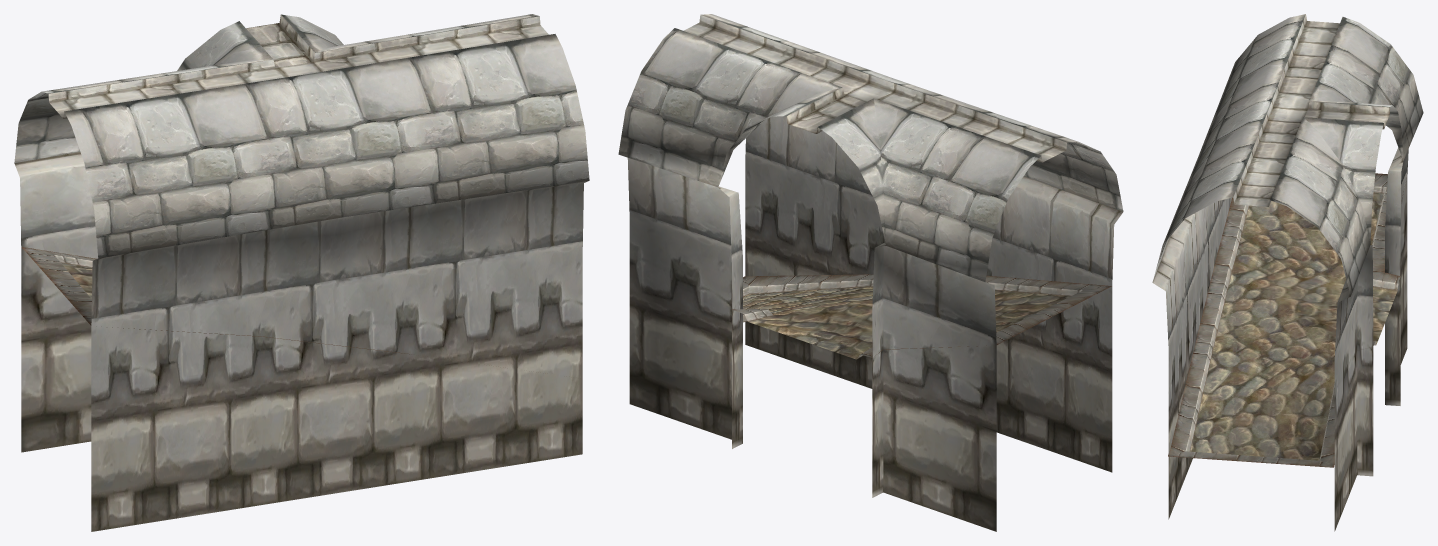
The model's file is stormwind_001.fbx.
3 renders of one model, left to right at view 1: azimuth 30°, elevation 25°; view 2: azimuth 150°, elevation 25°; view 3: azimuth 270°, elevation 25°, orthographic. The views are drawn at different scales.
Visible parts, largest first — view 1: stormwind_001_11, stormwind_001_4, stormwind_001_5, stormwind_001_12; view 2: stormwind_001_11, stormwind_001_4, stormwind_001_5, stormwind_001_46, stormwind_001_12; view 3: stormwind_001_46, stormwind_001_4, stormwind_001_11, stormwind_001_5, stormwind_001_12.
Part boxes in pixels (x1,y1,x2,y2): stormwind_001_11: (14, 152, 588, 531); stormwind_001_4: (14, 14, 589, 258); stormwind_001_5: (48, 15, 548, 118); stormwind_001_12: (21, 247, 411, 354); stormwind_001_11: (627, 116, 1122, 531); stormwind_001_4: (618, 14, 1123, 281); stormwind_001_5: (683, 15, 1066, 162); stormwind_001_46: (743, 287, 1070, 359); stormwind_001_12: (732, 274, 1111, 358); stormwind_001_46: (1190, 192, 1397, 460); stormwind_001_4: (1152, 14, 1423, 296); stormwind_001_11: (1152, 147, 1408, 531); stormwind_001_5: (1233, 14, 1389, 206); stormwind_001_12: (1168, 173, 1403, 467).
Size of the model in its own units: 23.41 by 18.07 by 13.57.
